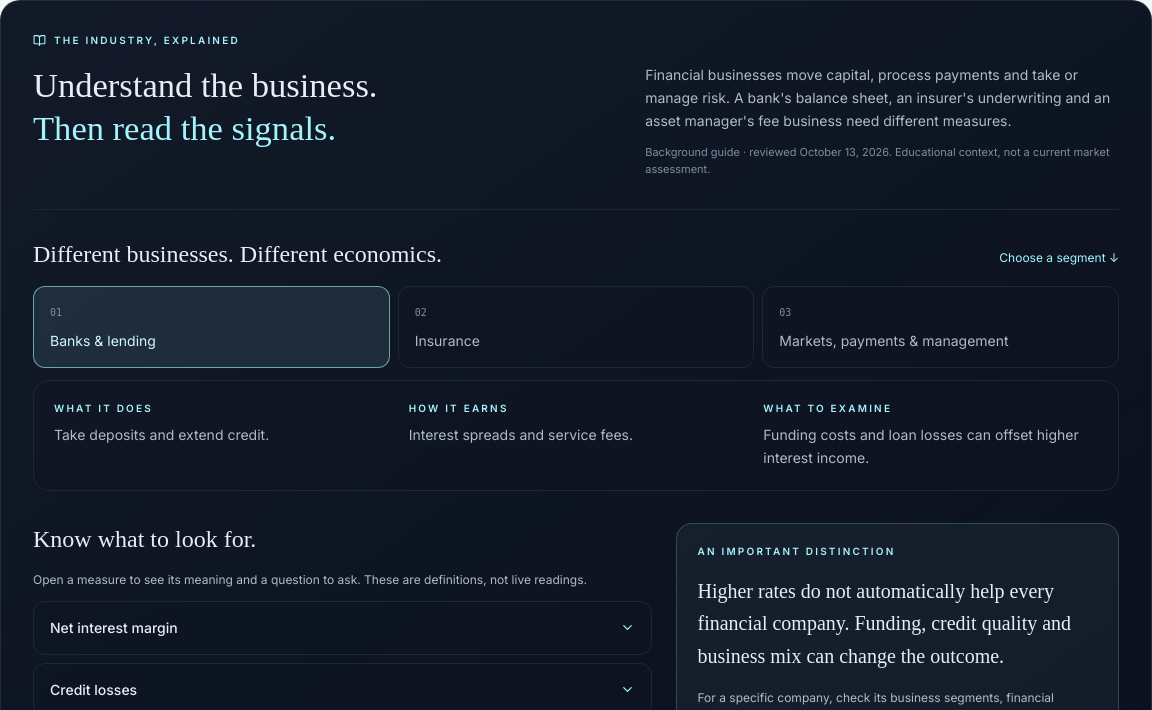
provides a usable distinct guide for financials even without reporting
Click the button "02 Insurance": (447, 341) [398,286,754,368]
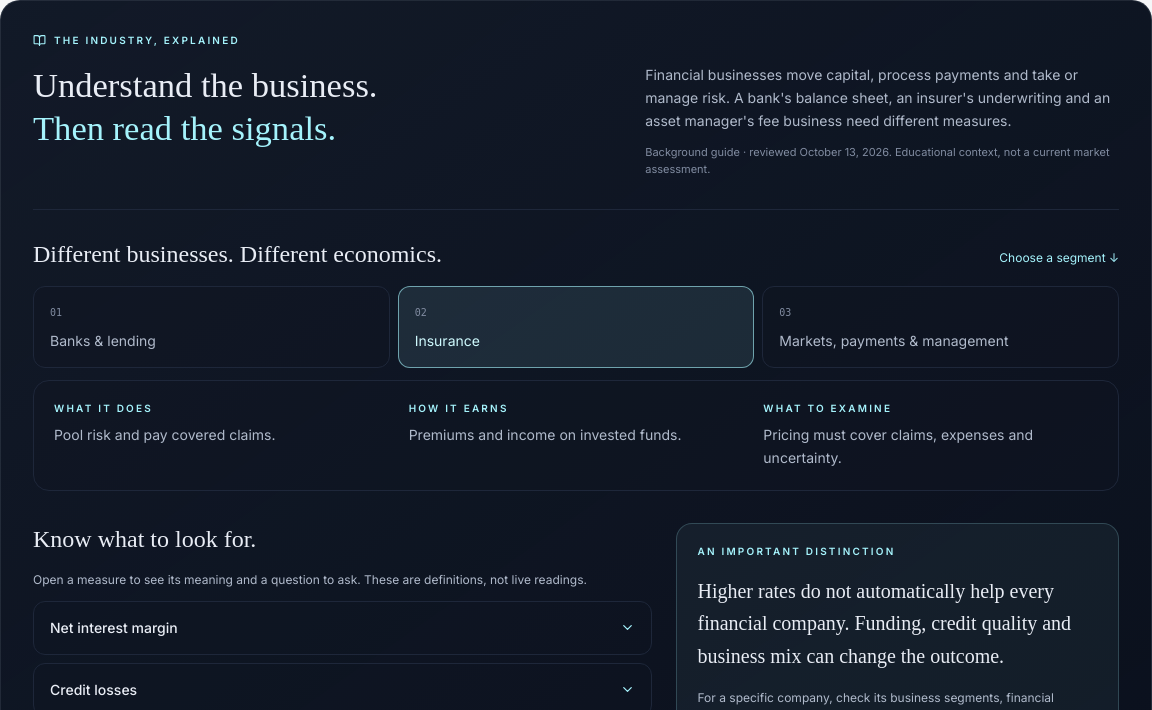
Expected: the text "definitions, not live readings" is shown, [33,572,587,587]
Expected: the text "Premiums and income on invested funds." is shown, [409,426,682,443]
Expected: the text "Interest spreads and service fees." is gone
